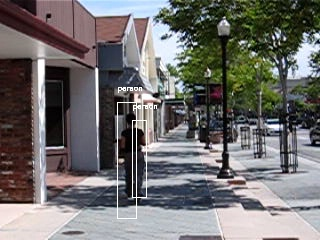person: (120, 112, 148, 205), (119, 112, 147, 205), (121, 112, 149, 205), (120, 111, 148, 204), (120, 113, 148, 206)
target_negative: (214, 110, 296, 211), (197, 121, 249, 227), (34, 226, 229, 238), (301, 191, 312, 235), (219, 20, 220, 109), (133, 223, 174, 225)
